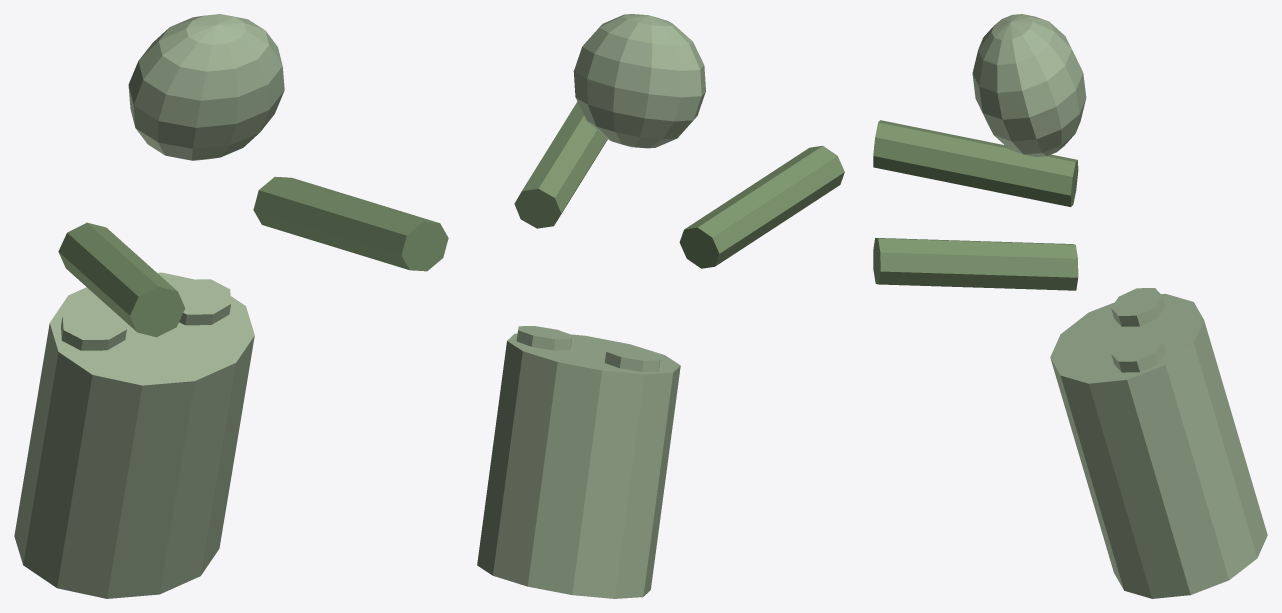
File: zombie.glb
3 renders of one model, left to right at view 1: azimuth 30°, elevation 25°; view 2: azimuth 150°, elevation 25°; view 3: azimuth 270°, elevation 25°, orthographic. The views are drawn at different scales.
Parts seen in each view (by area): view 1: ZombieBody, ZombieHead, Arm_R, Arm_L, Leg_L, Leg_R; view 2: ZombieBody, ZombieHead, Arm_L, Arm_R, Leg_R, Leg_L; view 3: ZombieBody, ZombieHead, Arm_L, Arm_R, Leg_R, Leg_L.
Boxes of the visible parts, <box> form: ZombieBody: <box>14,272,254,598</box>; ZombieHead: <box>128,14,284,160</box>; Arm_R: <box>253,176,448,271</box>; Arm_L: <box>58,222,185,337</box>; Leg_L: <box>61,304,126,350</box>; Leg_R: <box>173,279,230,325</box>; ZombieBody: <box>477,333,680,598</box>; ZombieHead: <box>573,14,705,148</box>; Arm_L: <box>679,145,844,268</box>; Arm_R: <box>514,102,607,228</box>; Leg_R: <box>516,326,572,350</box>; Leg_L: <box>604,347,660,371</box>; ZombieBody: <box>1050,293,1267,598</box>; ZombieHead: <box>972,14,1086,156</box>; Arm_L: <box>873,120,1078,206</box>; Arm_R: <box>873,238,1078,290</box>; Leg_R: <box>1111,333,1165,372</box>; Leg_L: <box>1111,288,1165,326</box>.
Size of the model in its own units: 0.6731 by 1.24 by 0.8023.
